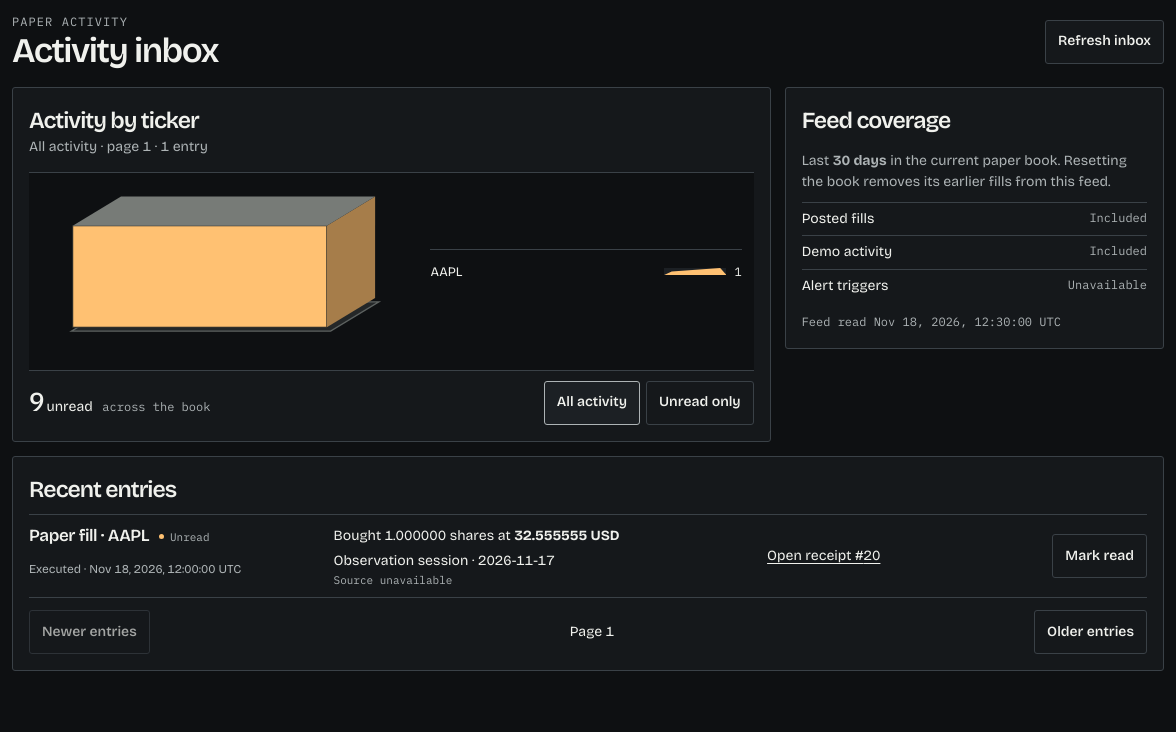
Test: pages an owner's book and drops the cursor and old entries on identity change
Later steps or results of the test are not shown.
Expected: the text "Source unavailable" is shown, left=334, top=573, right=452, bottom=587
Expected: the element with test id "inbox-unread-count" shows "9 unread", left=29, top=388, right=210, bottom=417
Click the button "Older entries". click: (1091, 632)
box: left=1034, top=610, right=1147, bottom=654
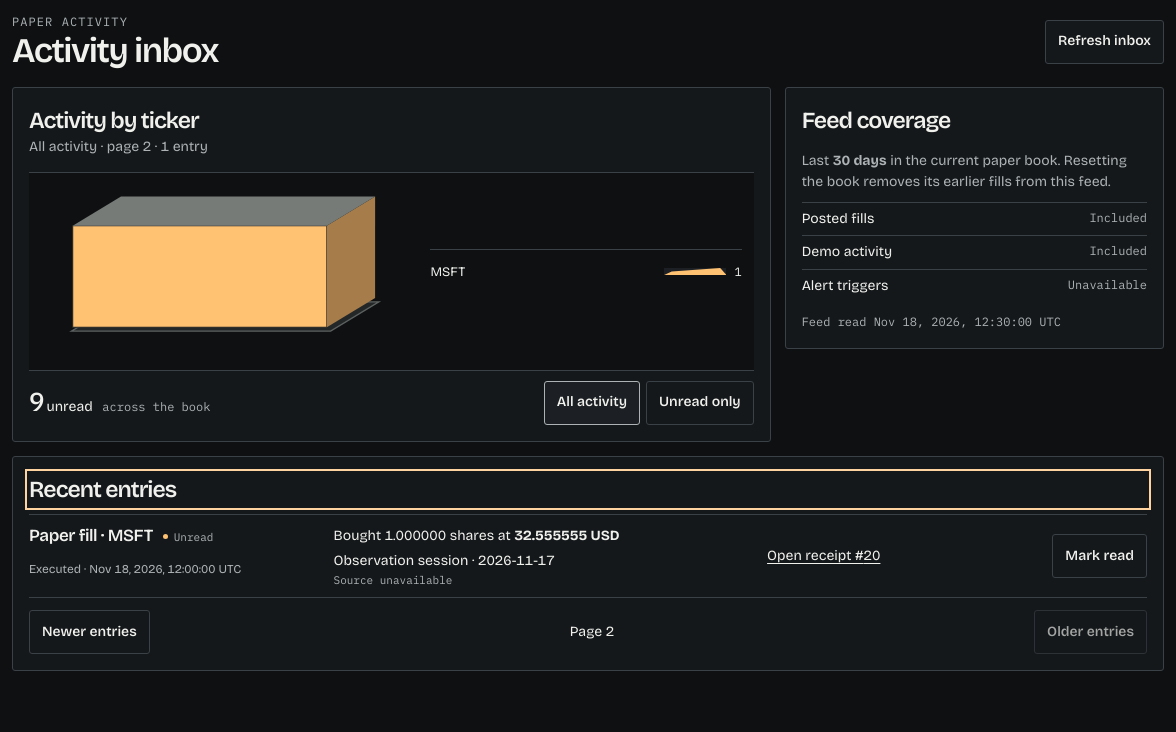
Expected: the heading "Paper fill · MSFT" is shown, left=29, top=524, right=153, bottom=548
